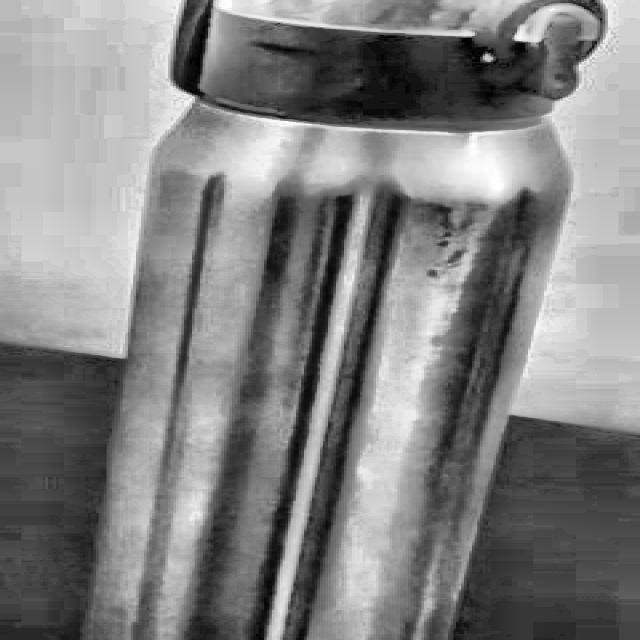bottle: (78, 0, 608, 640)
